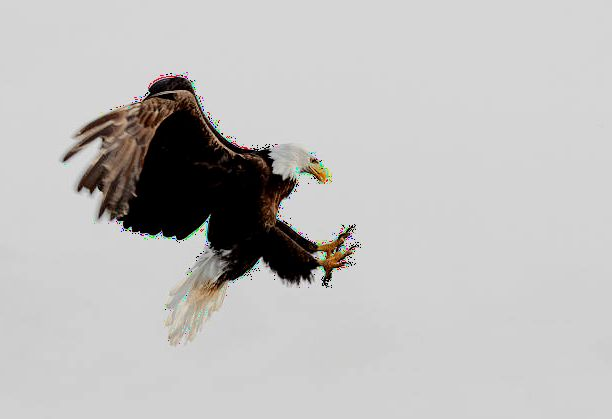Bird: (56, 69, 362, 348)
